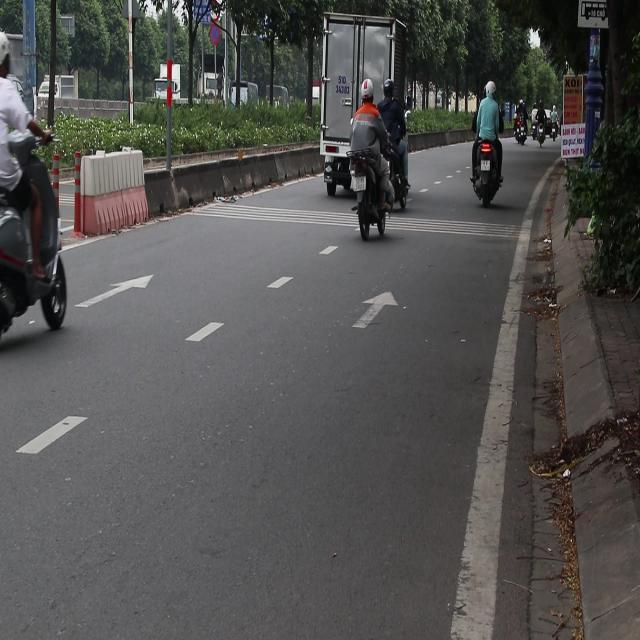motorbike: (1, 157, 69, 377), (350, 144, 395, 240), (362, 128, 415, 198), (470, 137, 504, 206), (533, 119, 547, 162), (514, 117, 527, 146), (552, 120, 556, 141)
truck: (316, 18, 405, 200), (151, 58, 198, 118), (39, 61, 76, 115)
